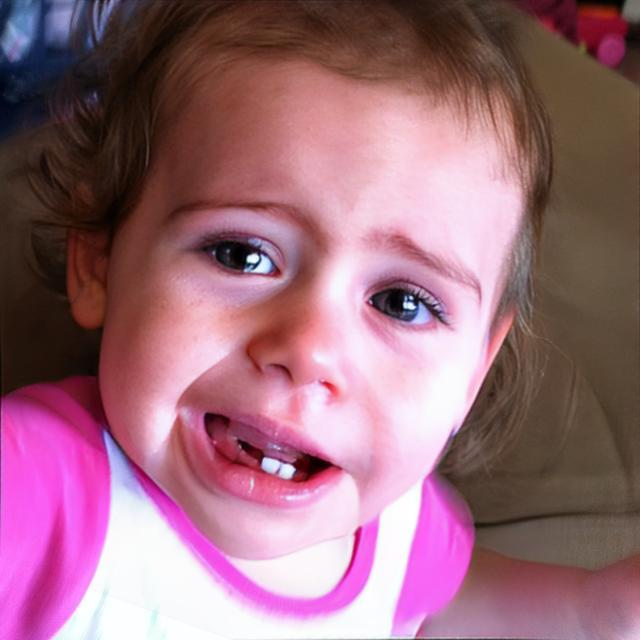fear: (99, 0, 542, 564)
